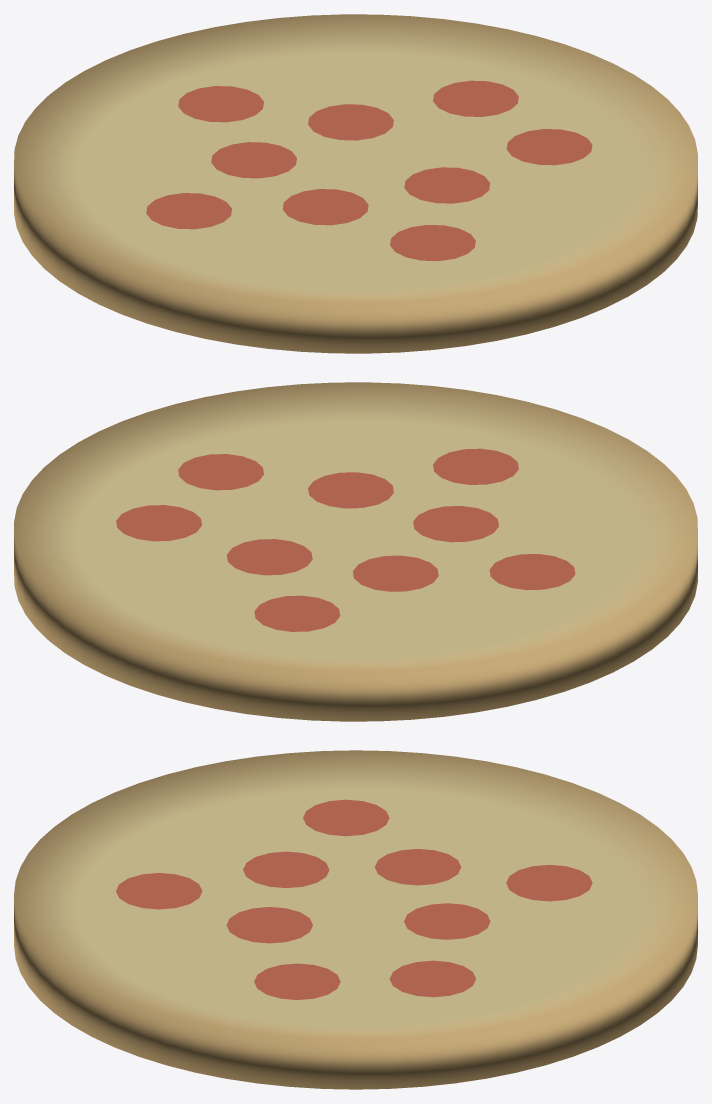
The model's file is pibo-pizza.glb.
3 renders of one model, top to bottom at view 1: azimuth 30°, elevation 25°; view 2: azimuth 150°, elevation 25°; view 3: azimuth 270°, elevation 25°, orthographic.
Visible parts, largest first — view 1: PIBO_Pizza; view 2: PIBO_Pizza; view 3: PIBO_Pizza.
Boxes of the visible parts, x1,y1,x2,y2 form: PIBO_Pizza: (14,14,697,353); PIBO_Pizza: (14,382,697,721); PIBO_Pizza: (14,750,697,1089).
Size of the model in its own units: 0.3 by 0.0243 by 0.3.
